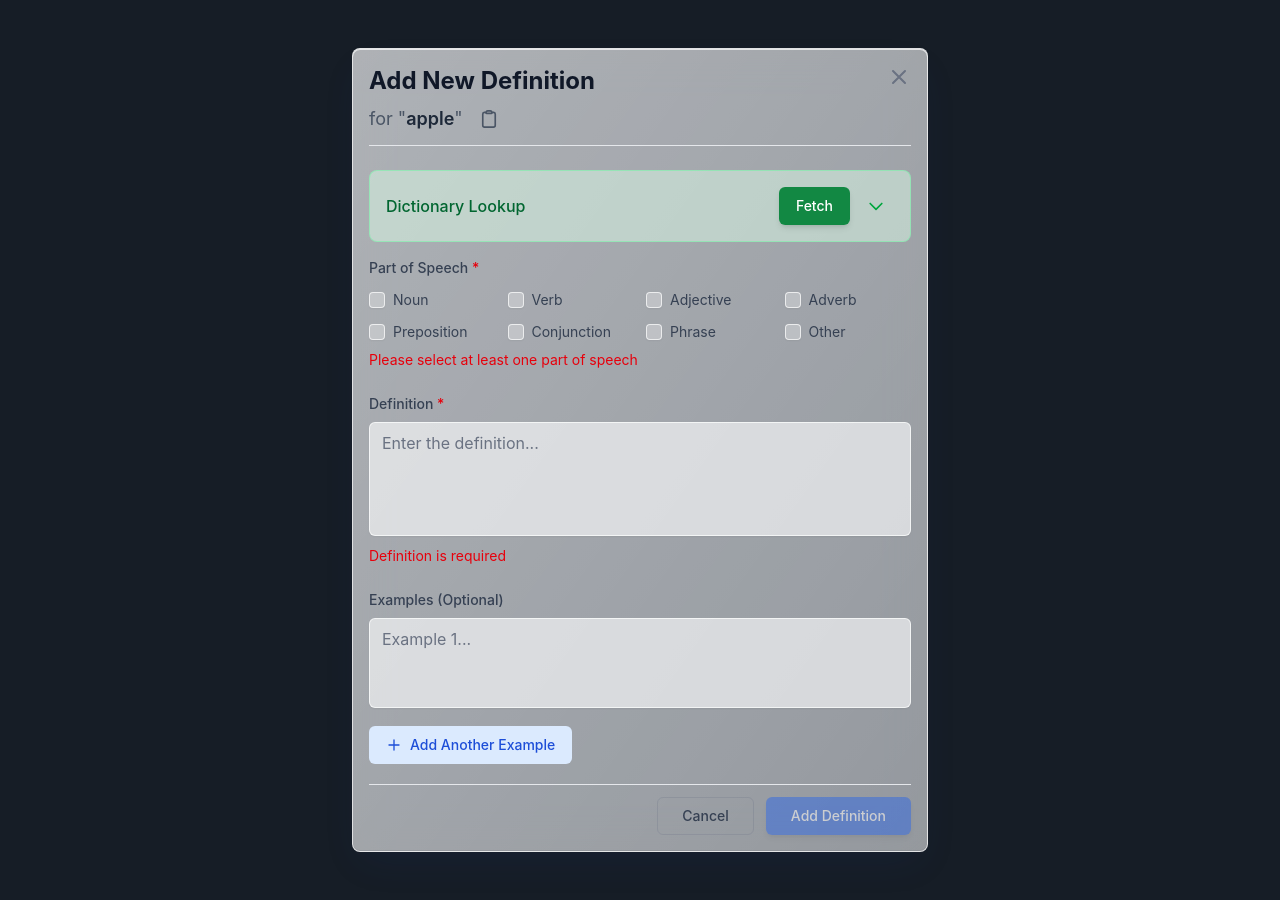
Test: DefinitionFormModal › applies fetched pronunciation data to the form
The image size is (1280, 900).
Click the button "Fetch" at (814, 206), box [779,187,850,225]
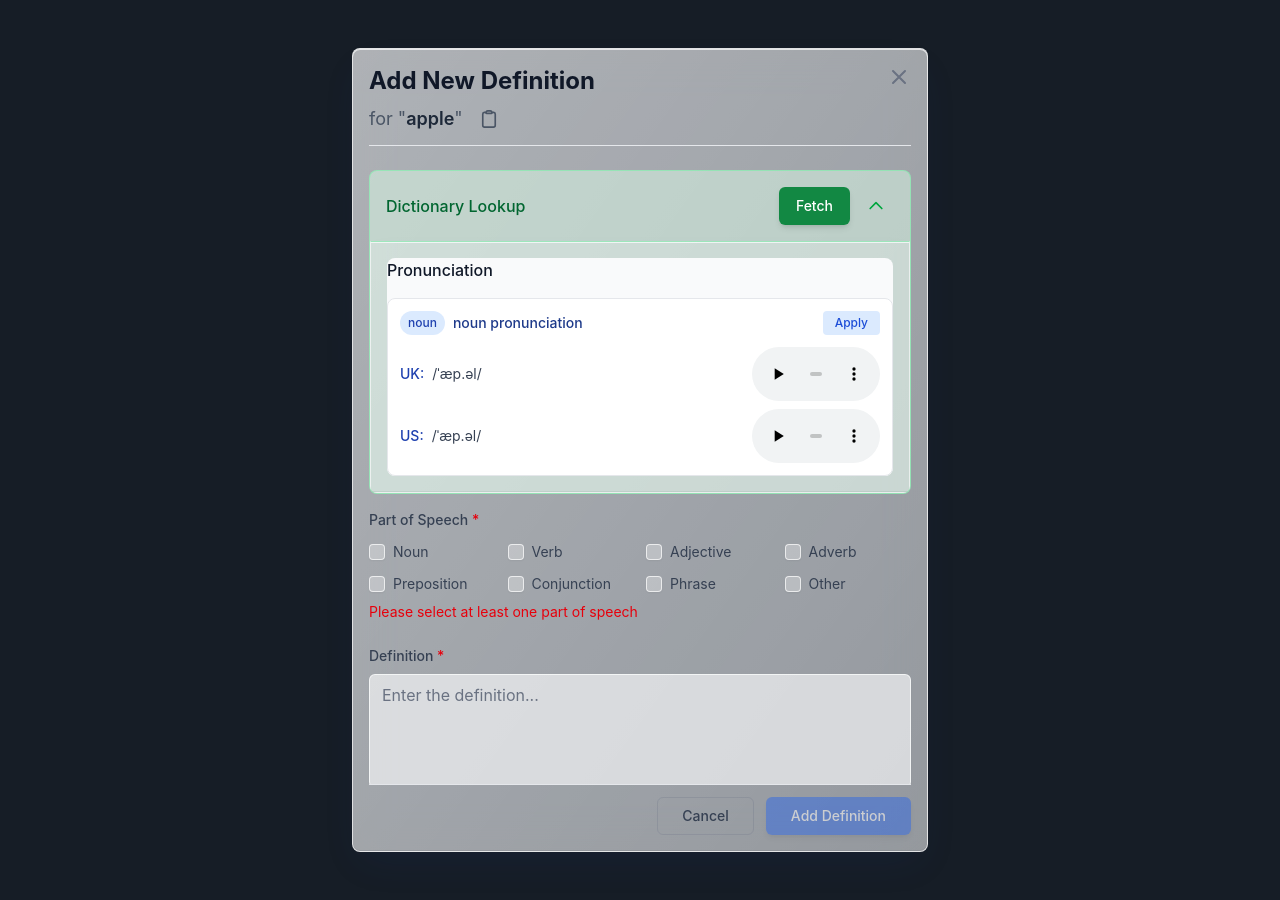
Expected: the heading "Pronunciation" is shown, [387,260,493,280]
Click the button "Apply" at (851, 323), box [823,311,880,335]
(page scrolled)
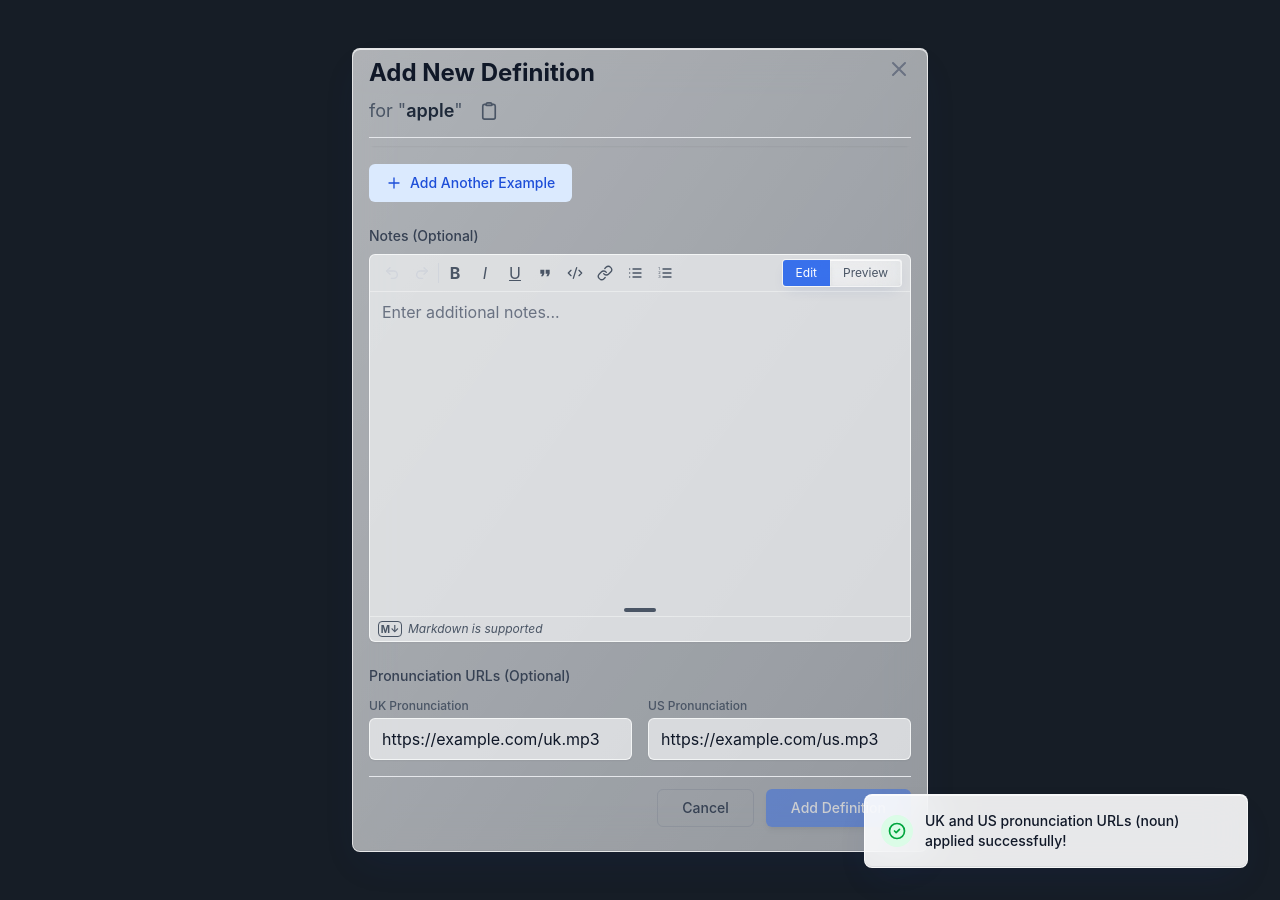
Expected: the field with placeholder "https://example.com/audio-uk.mp3" below "UK Pronunciation" holds "https://example.com/uk.mp3", [369,718,632,760]
Expected: the 2nd field with placeholder "https://example.com/audio-us.mp3" holds "https://example.com/us.mp3", [648,718,911,760]
